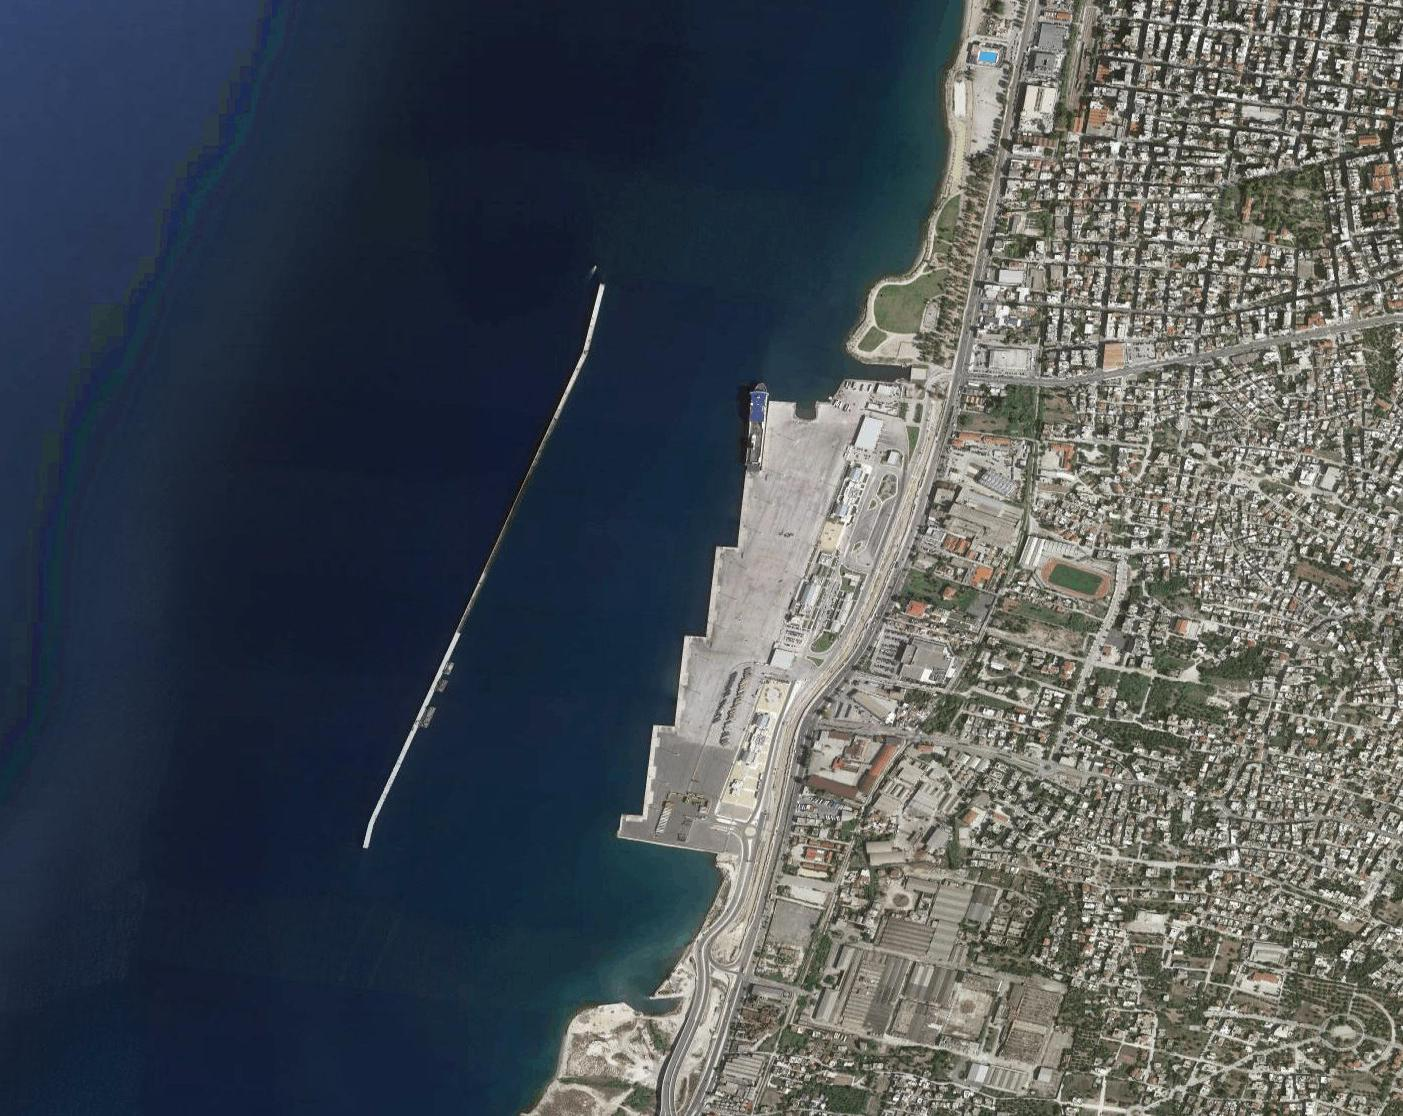harbor: (573, 317, 884, 886)
